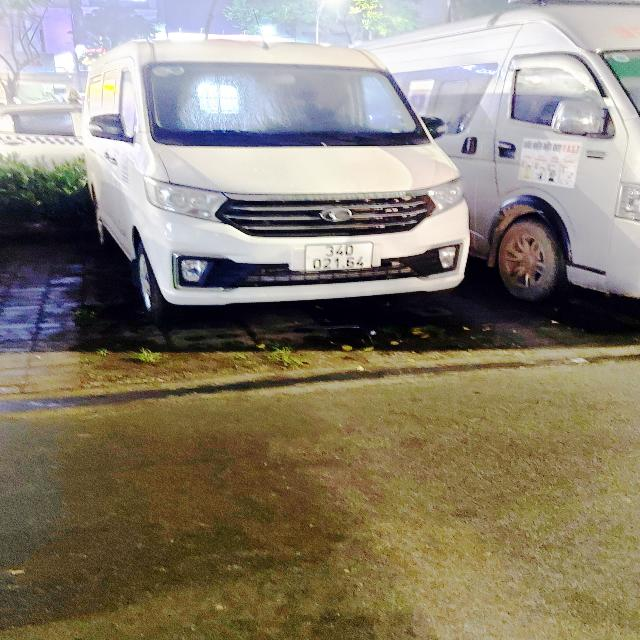license_plate: (304, 241, 378, 276)
